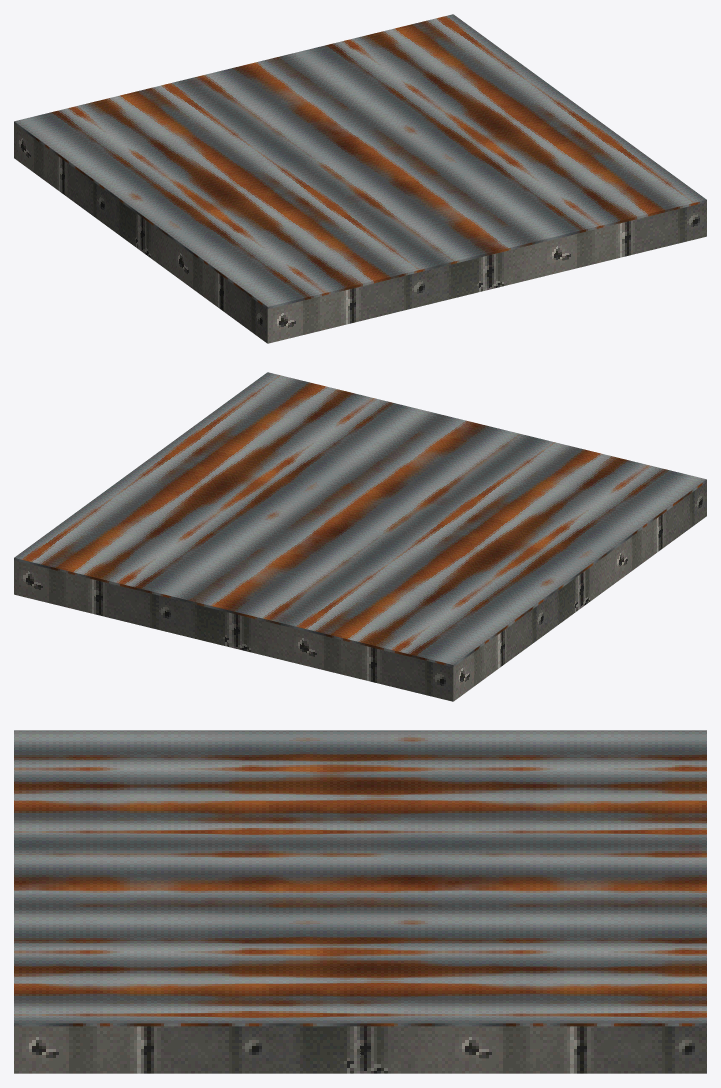
Rendered from roof_flat.glb.
The picture shows the model from 3 angles, top to bottom: view 1: azimuth 30°, elevation 25°; view 2: azimuth 150°, elevation 25°; view 3: azimuth 270°, elevation 25°; orthographic projection. The views are drawn at different scales.
Parts seen in each view (by area): view 1: roof_flat_mesh; view 2: roof_flat_mesh; view 3: roof_flat_mesh.
Boxes of the visible parts, <box> form: roof_flat_mesh: <box>14,14,706,343</box>; roof_flat_mesh: <box>14,372,706,701</box>; roof_flat_mesh: <box>14,730,706,1073</box>.
Size of what is drawn, in the model's own units: 4 by 0.32 by 4.
2 materials, 2 textured.
